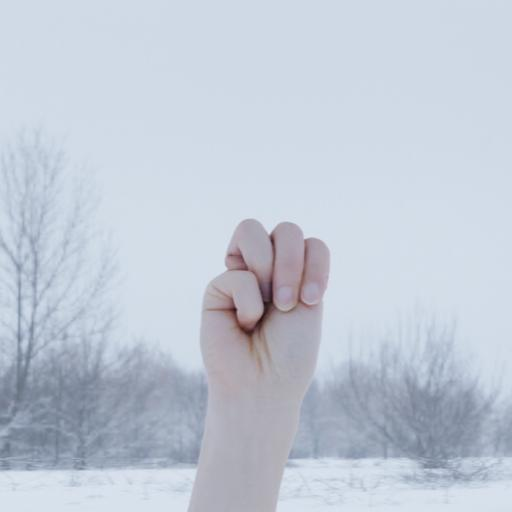M: (183, 210, 349, 486)
